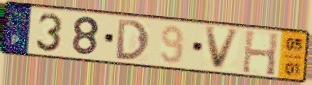3: (35, 12, 65, 54)
8: (71, 15, 100, 57)
9: (160, 23, 188, 65)
D: (115, 18, 151, 62)
H: (240, 28, 281, 78)
V: (204, 26, 243, 72)
